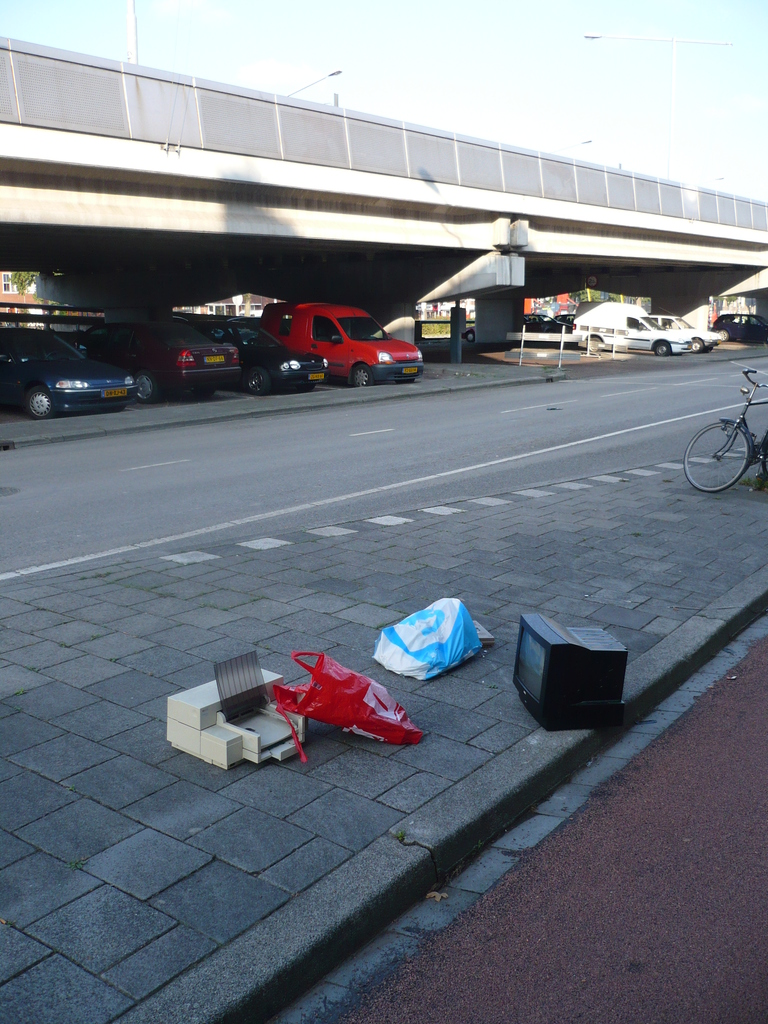Car: (0, 322, 143, 422), (78, 322, 241, 399), (197, 315, 330, 389), (568, 311, 693, 348), (652, 310, 724, 352), (710, 311, 767, 341), (526, 315, 561, 329)
